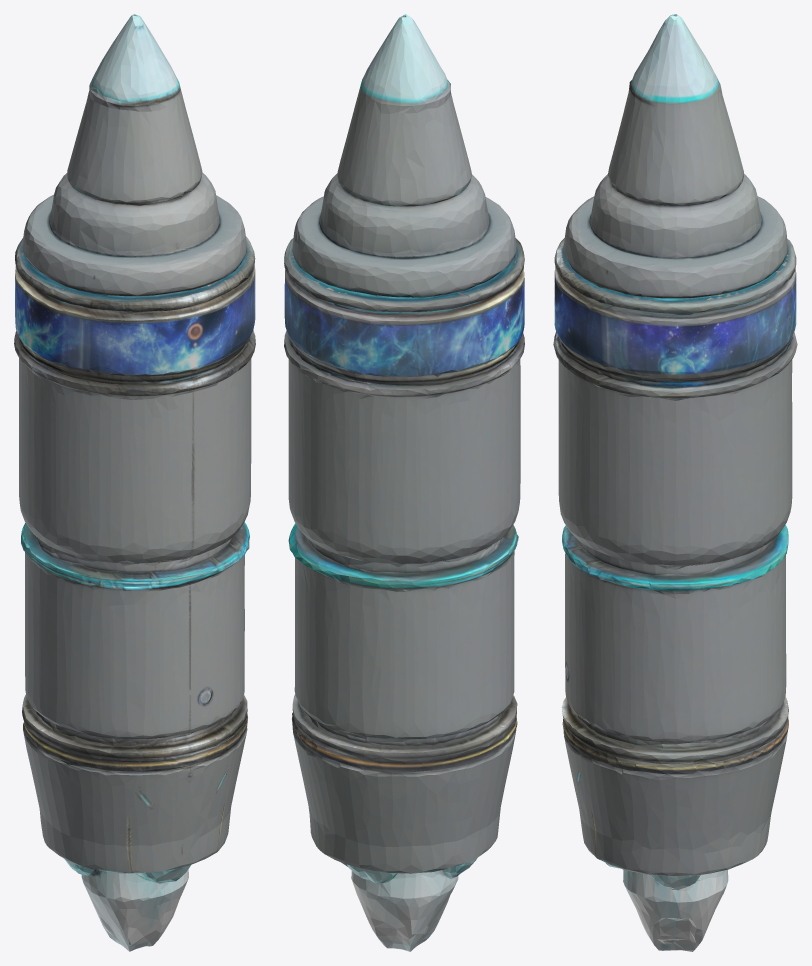
Rendered from space_shooter_bullet__0426085817_texture.fbx.
3 views of the same model, side by side, from view 1: azimuth 30°, elevation 25°; view 2: azimuth 150°, elevation 25°; view 3: azimuth 270°, elevation 25° (orthographic).
Visible parts, largest first — view 1: temp; view 2: temp; view 3: temp.
Boxes of the visible parts, box(x1,y1,x2,y2) form: temp: box(14, 14, 255, 951); temp: box(284, 14, 524, 951); temp: box(553, 14, 797, 951).
Bounding box in the file's own units: 47.39 × 200 × 47.54.
Materials: 1 (1 with a texture image).
